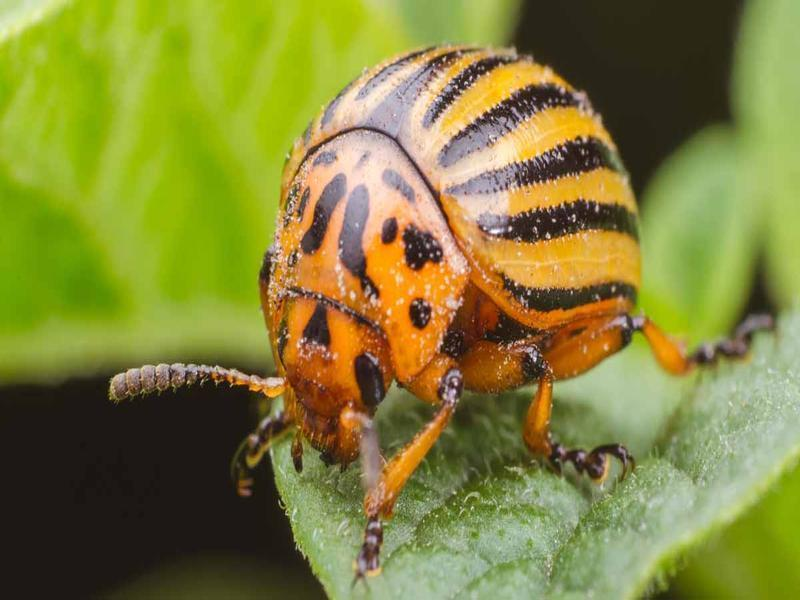hrosc: (255, 40, 646, 484)
